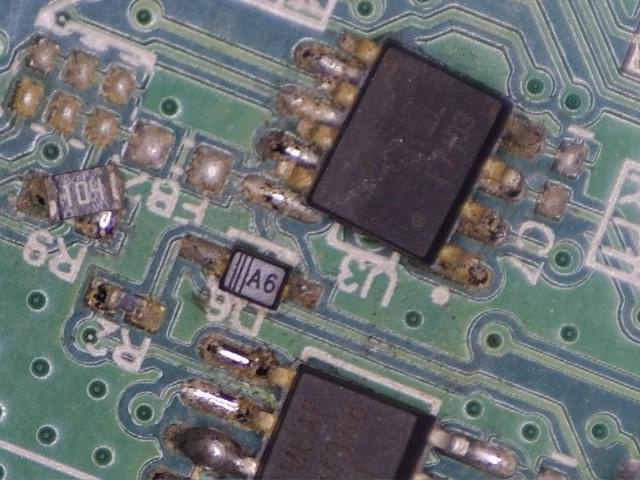pcb_defect: (239, 34, 542, 292), (18, 164, 131, 246)
